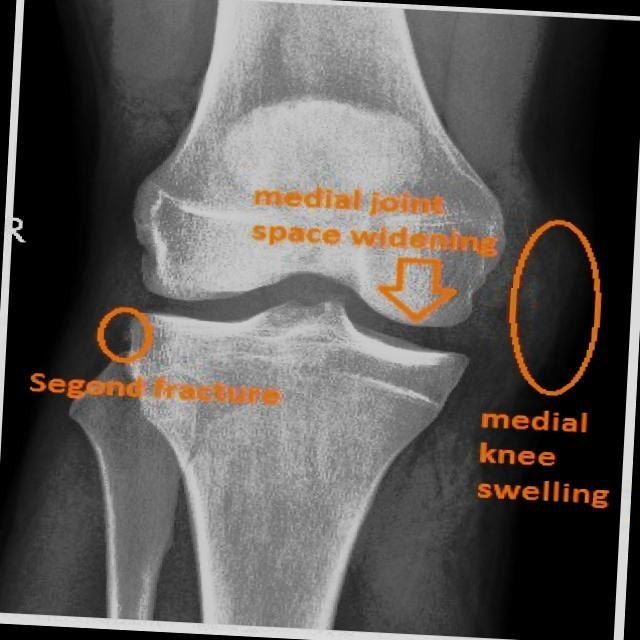Avlusion Fracture: (89, 306, 169, 368)
